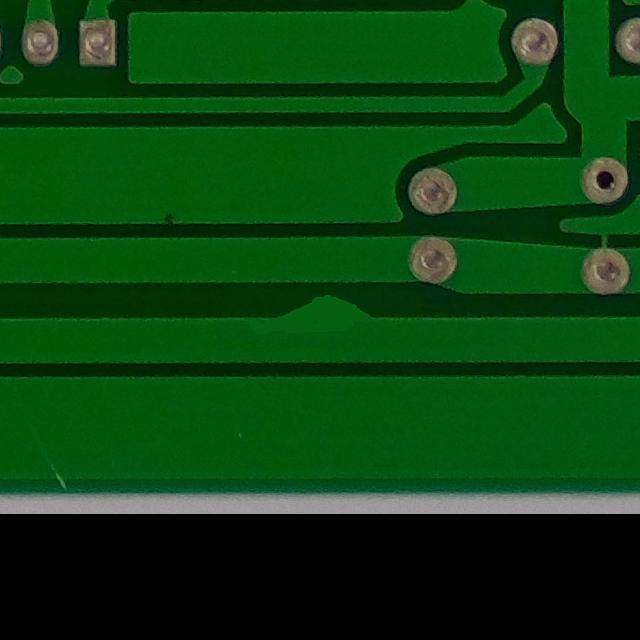spur: (255, 284, 386, 357)
